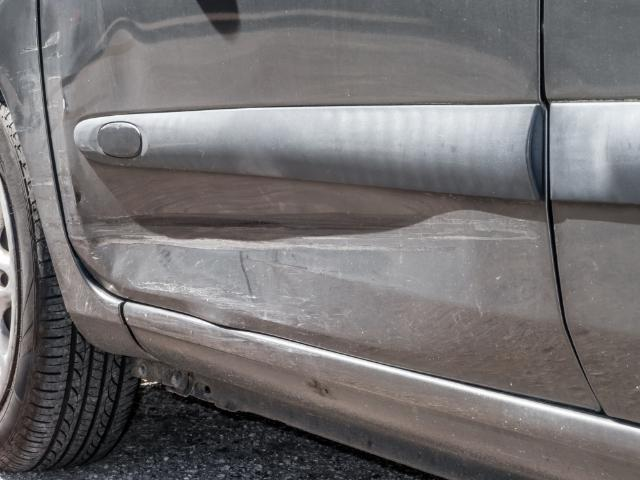crack: (118, 301, 161, 361)
dent: (79, 169, 461, 342)
